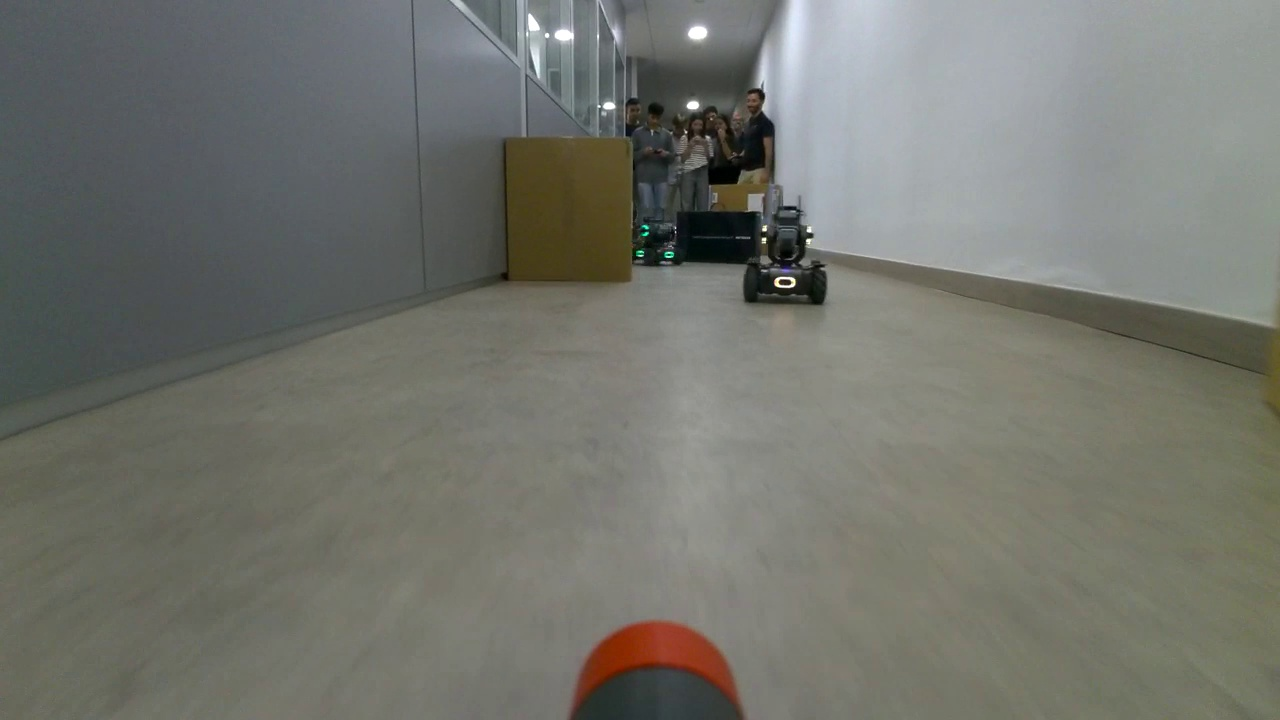robot: (742, 207, 829, 307), (633, 219, 686, 268)
